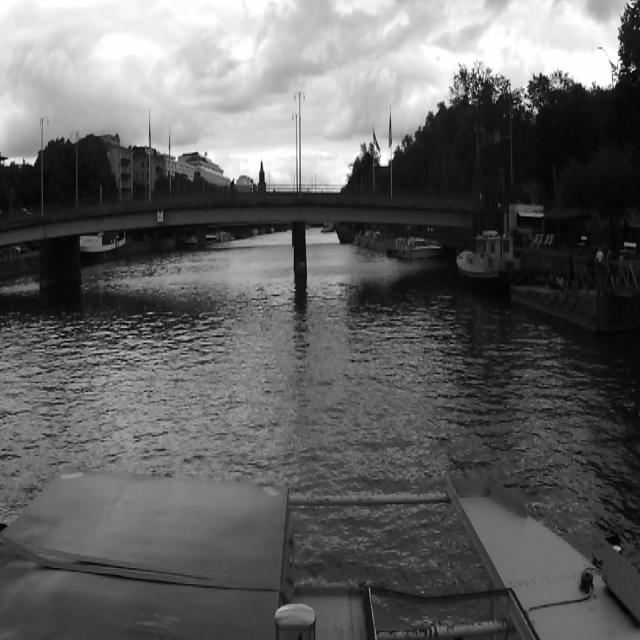ship: (454, 228, 520, 289), (82, 233, 126, 263), (403, 240, 441, 262)
